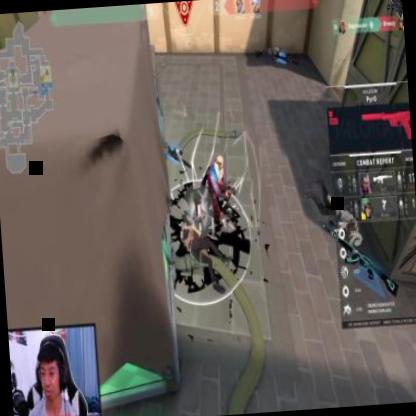enemy: (204, 154, 234, 223)
enemy_head: (216, 154, 224, 170)
